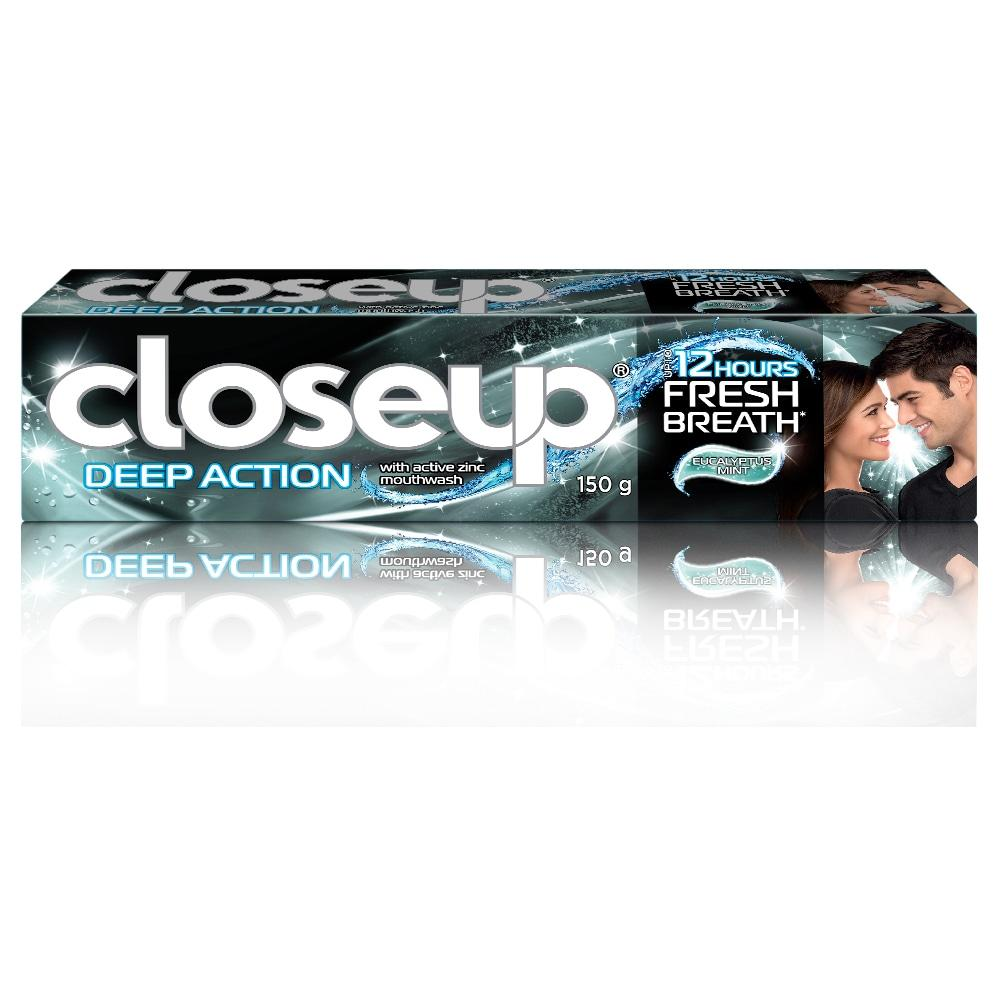CloseUp: (18, 266, 983, 529)
